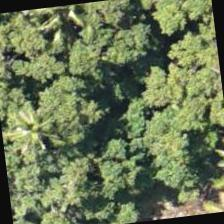Kelapa_Sawit: (20, 0, 117, 63)
